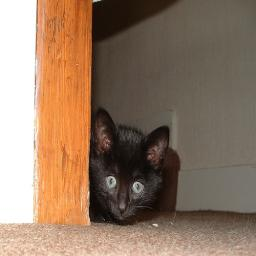catnose: (117, 199, 129, 216)
